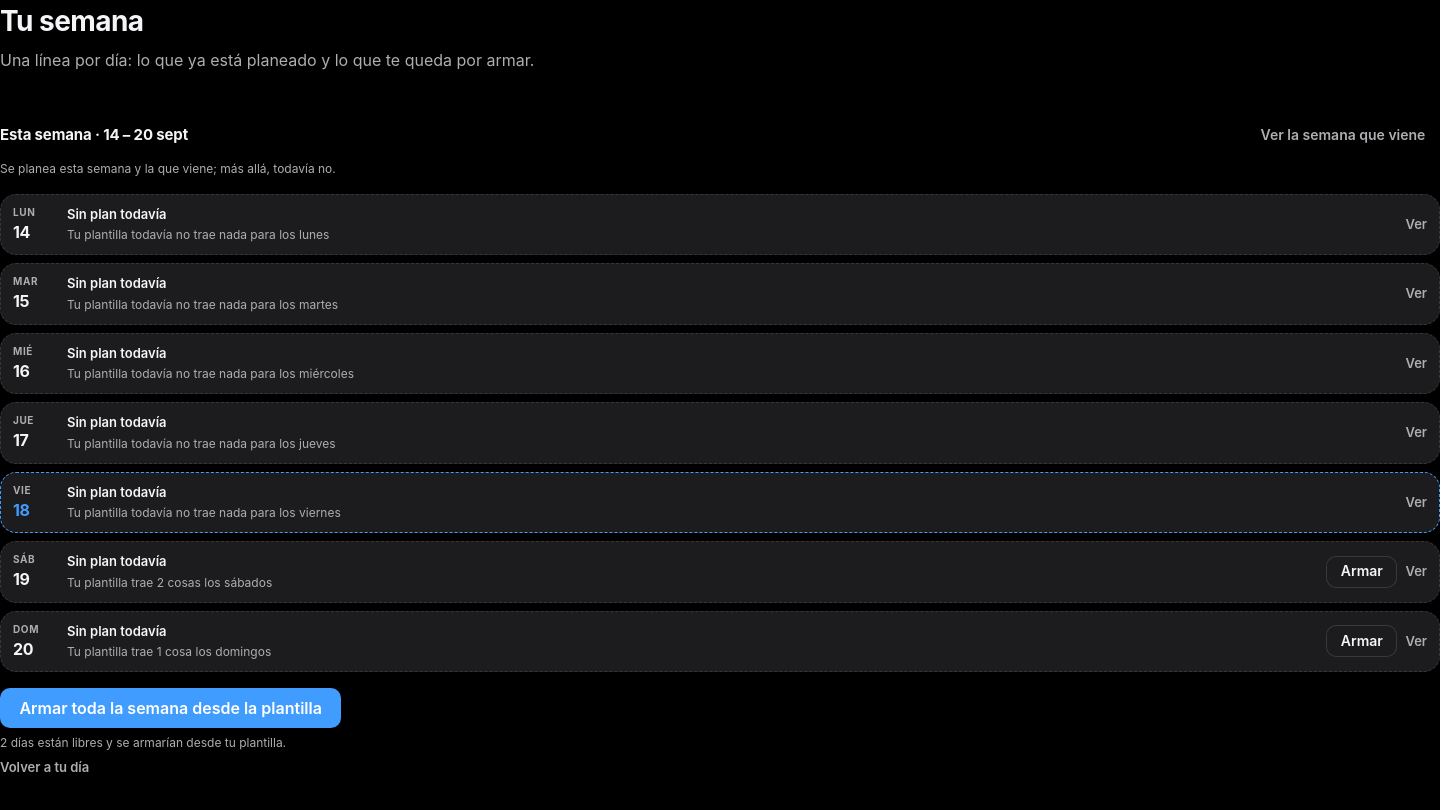
Test: VidaSemanaPage — armar (criterios 42, 45 y 46) › la salida del diálogo es «Volver», nunca «Cancelar» (criterio 56)
This screenshot has width=1440, height=810.
Click the button "Armar toda la semana desde la plantilla": point(171, 708) [0, 688, 341, 728]
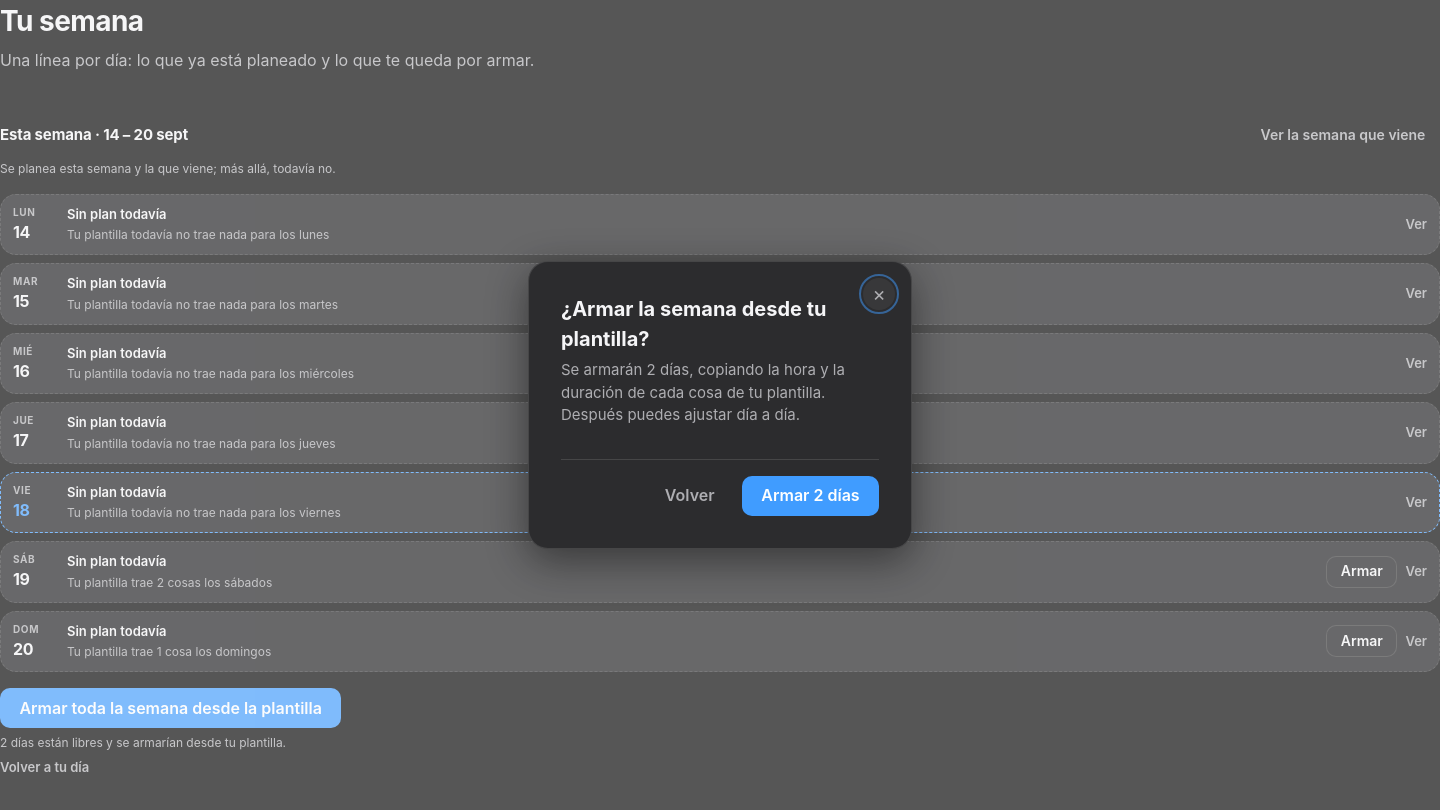
Expected: the button "Volver" is shown, [646, 476, 734, 516]
